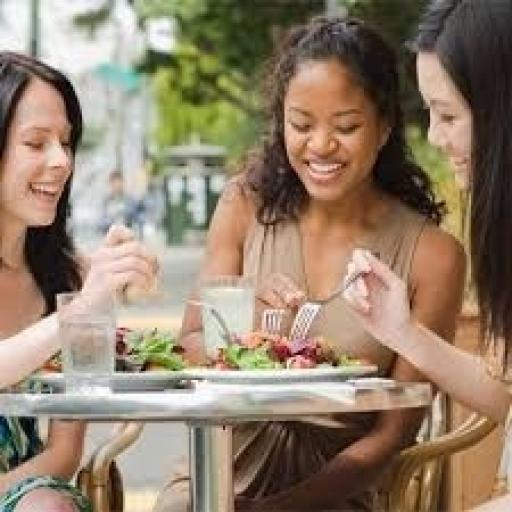eating: (148, 14, 469, 510), (339, 0, 510, 510), (0, 48, 162, 510)
